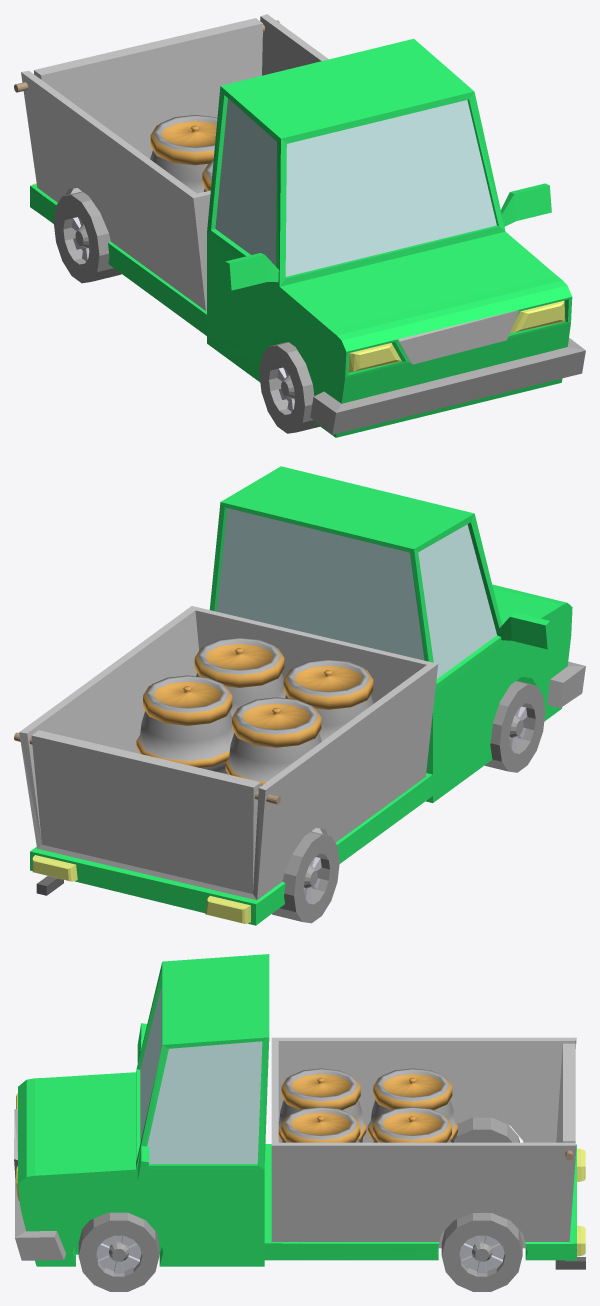
Rendered from van_1.fbx.
3 views of the same model, one above another, from view 1: azimuth 30°, elevation 25°; view 2: azimuth 150°, elevation 25°; view 3: azimuth 270°, elevation 25° (orthographic). The views are drawn at different scales.
Parts seen in each view (by area): view 1: van trailer cylinder, van rear wheel, barrel, van frontw heel; view 2: van trailer cylinder, barrel, van rear wheel, van frontw heel; view 3: van trailer cylinder, barrel, van rear wheel, van frontw heel.
Part boxes in pixels (x1,y1,x2,y2): van trailer cylinder: [14, 14, 585, 437]; van rear wheel: [53, 191, 121, 283]; barrel: [150, 115, 217, 193]; van frontw heel: [259, 342, 319, 433]; van trailer cylinder: [14, 466, 585, 925]; barrel: [136, 637, 373, 785]; van rear wheel: [272, 831, 339, 923]; van frontw heel: [485, 681, 545, 772]; van trailer cylinder: [14, 954, 585, 1269]; barrel: [278, 1068, 457, 1142]; van rear wheel: [441, 1117, 522, 1291]; van frontw heel: [78, 1212, 159, 1291].
Bounding box in the file's own units: 2.83 × 2.33 × 4.96.
